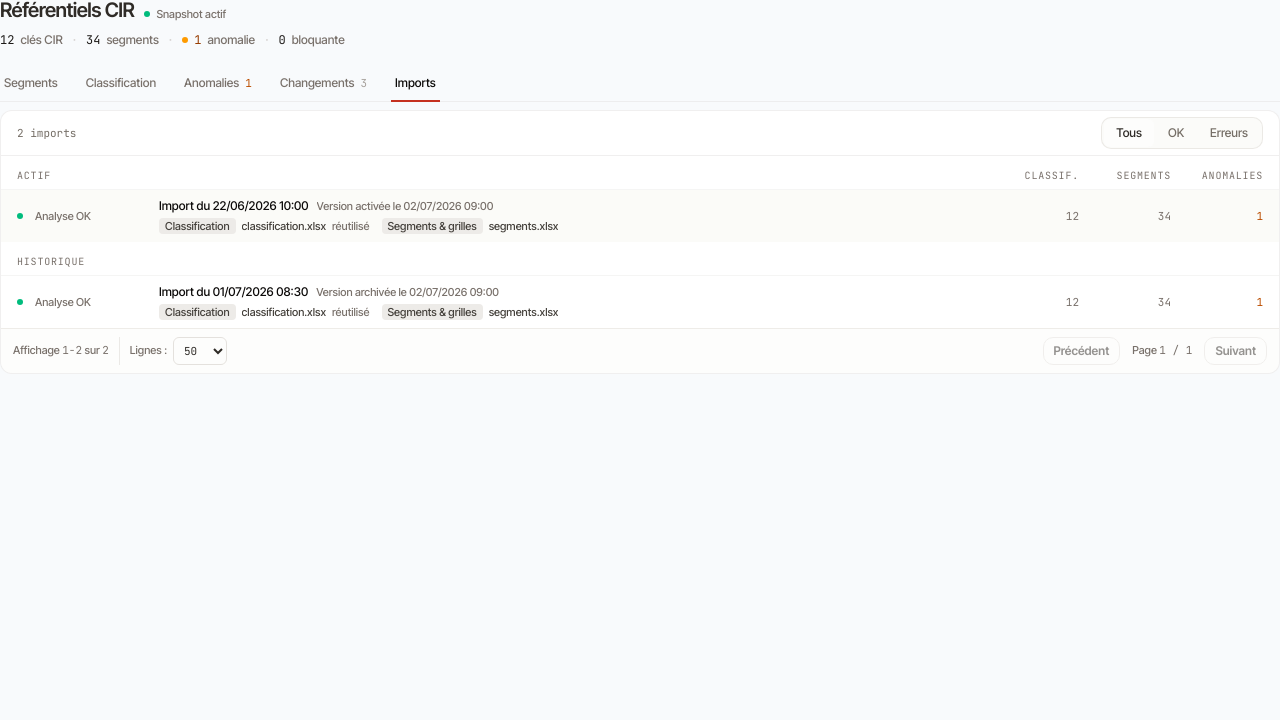
Test: PricingReferencesPage › masque les actions d'activation pour un admin d'agence
The width and height of the screenshot is (1280, 720).
Step 1. Click the button with aria-label "voir le détail de l'import du" → [63, 302], box [1, 276, 1279, 328]
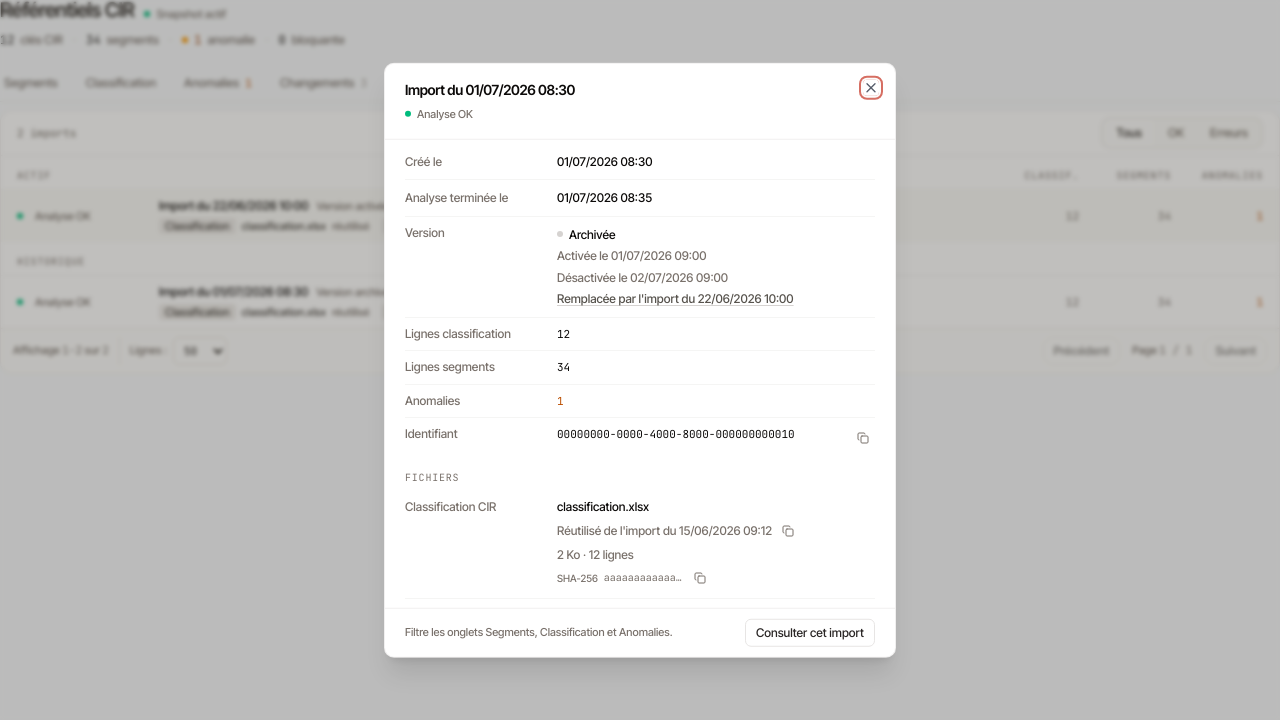
Result: the text "Archivée" is shown at [557, 226, 615, 241]
